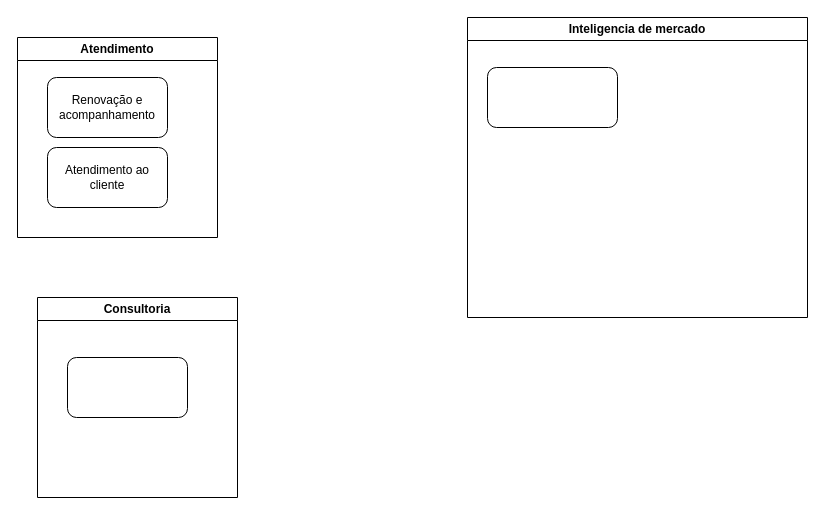
The diagram is 825 pixels wide and 515 high, and some of its shapes have lost their labels. Here are the shapes that lost their labels. From the top down, the centre of each, then its label:
the point at 552,97: Pesquisa e análise
the point at 127,387: Cotações e negociações
